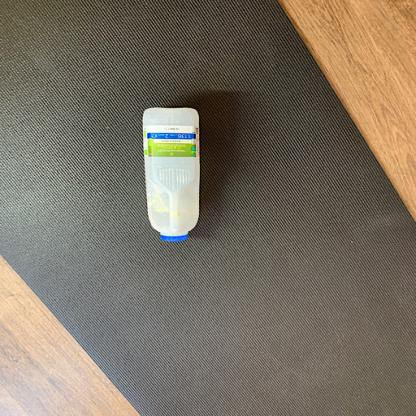trash: (141, 107, 203, 245)
